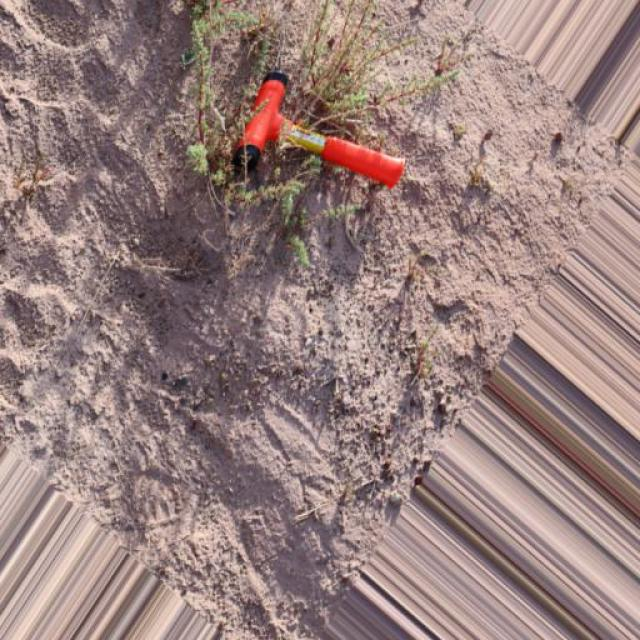mallet: (230, 69, 406, 190)
